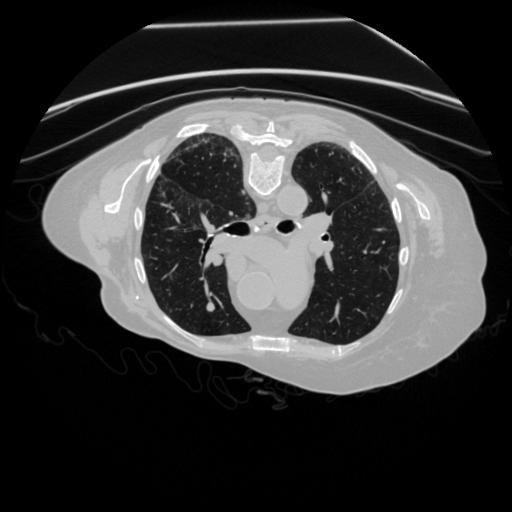nodule: (202, 302, 216, 316)
